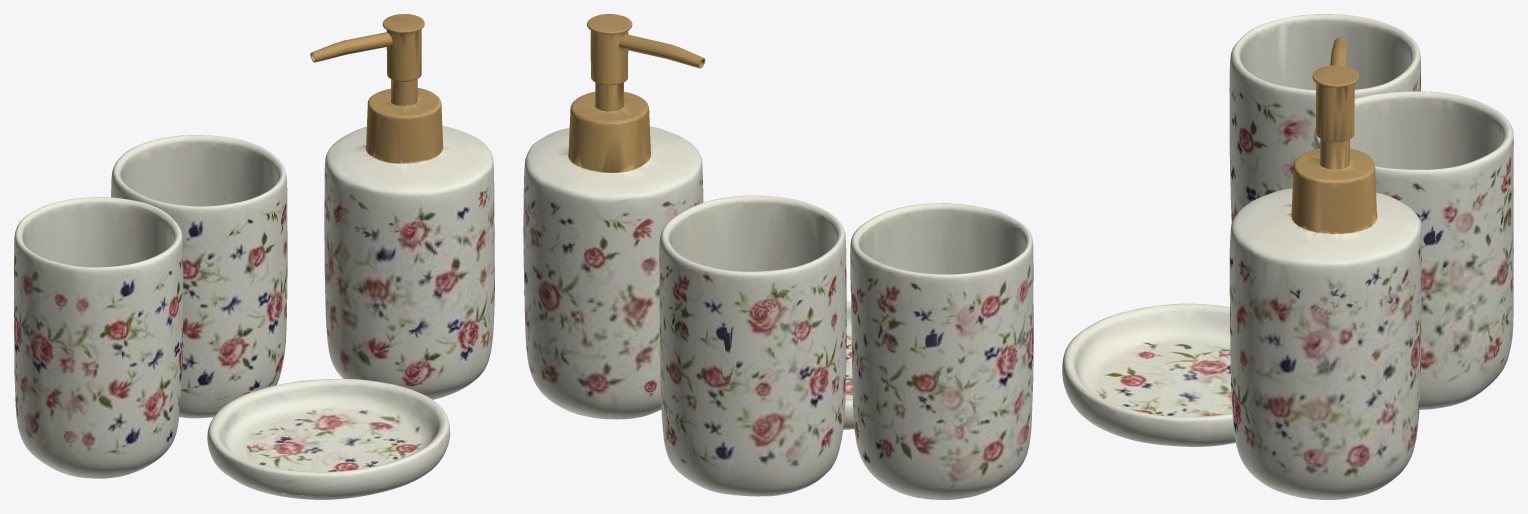
The model's file is bath-dispenser-set.glb.
3 renders of one model, left to right at view 1: azimuth 30°, elevation 25°; view 2: azimuth 150°, elevation 25°; view 3: azimuth 270°, elevation 25°, orthographic. The views are drawn at different scales.
Parts seen in each view (by area): view 1: Mesh_0; view 2: Mesh_0; view 3: Mesh_0.
Part boxes in pixels (x1=…): Mesh_0: x1=14, y1=14, x2=494, y2=499; Mesh_0: x1=523, y1=14, x2=1033, y2=499; Mesh_0: x1=1062, y1=14, x2=1513, y2=499.
Size of the model in its own units: 1.9 by 1.41 by 1.44.
1 material, 1 textured.
